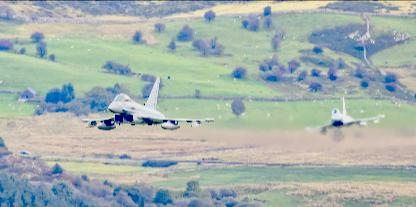E2: (81, 76, 215, 130), (305, 96, 385, 134)
